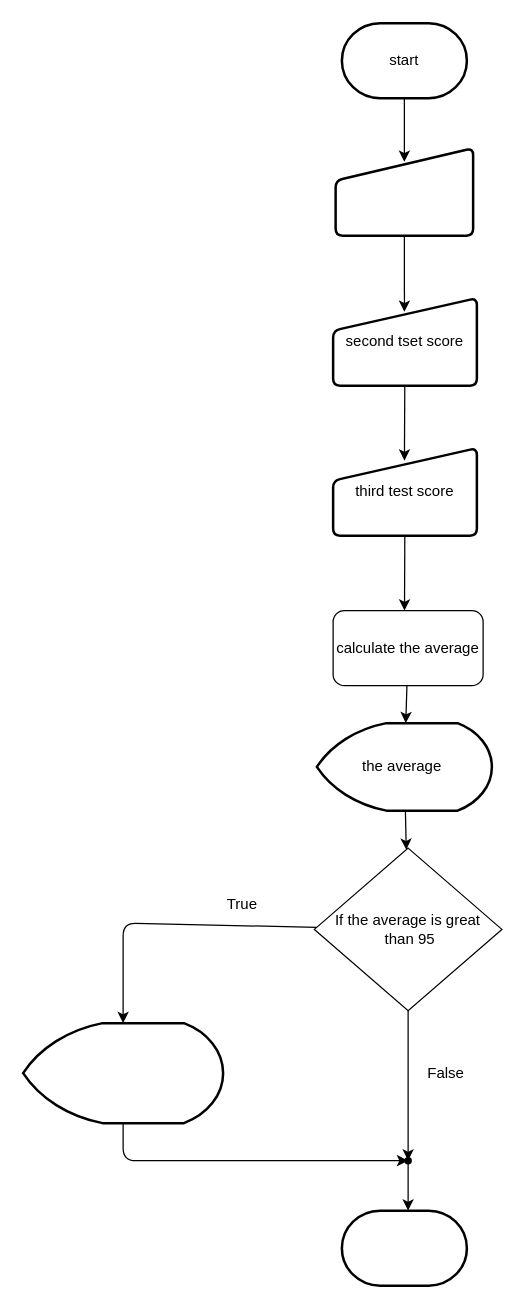
The diagram is 524 pixels wide and 1308 high, and some of its shapes have lost their labels. Each missing label, with the box of its shape:
end: (340, 1209, 468, 1286)
first test score: (334, 146, 474, 236)
print (' Congratulate that is a great average '): (21, 1021, 224, 1124)
